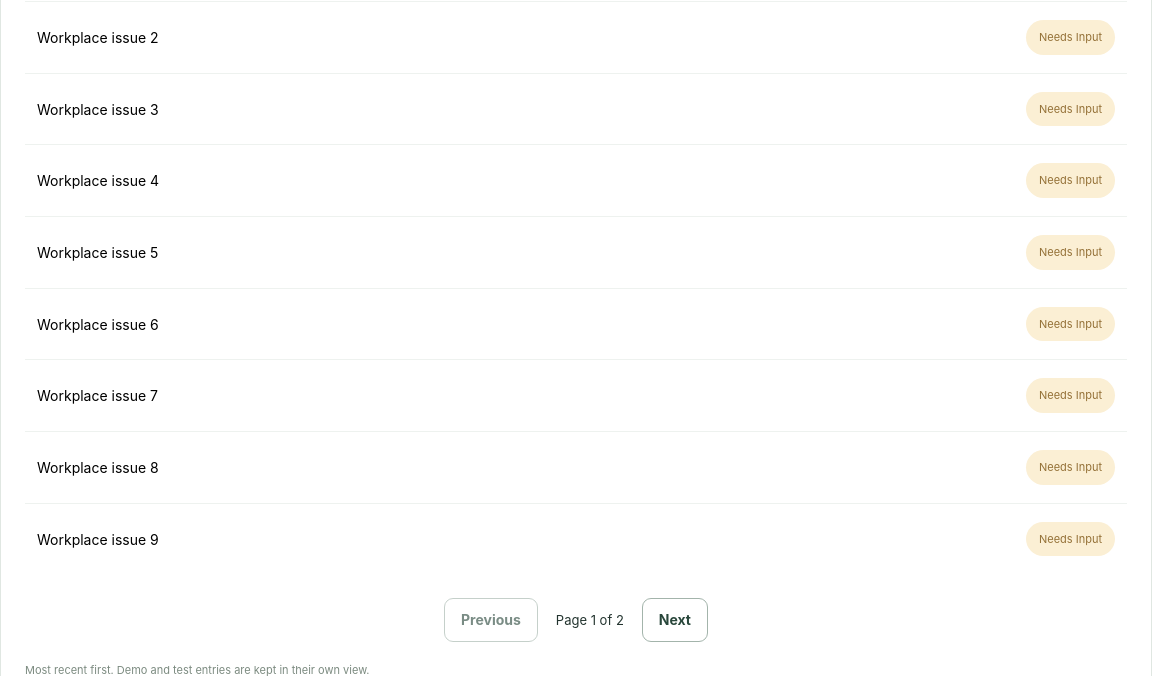
Test: known samples stay separate, unknown records remain visible, history is searchable and paginated
(page scrolled)
Expected: the button "Fictional VPN" is not shown
Expected: the text "Page 1 of 2" is shown, [556,612,624,628]
Click the button "Next". click: (675, 620)
box: [642,598,708,642]
(page scrolled)
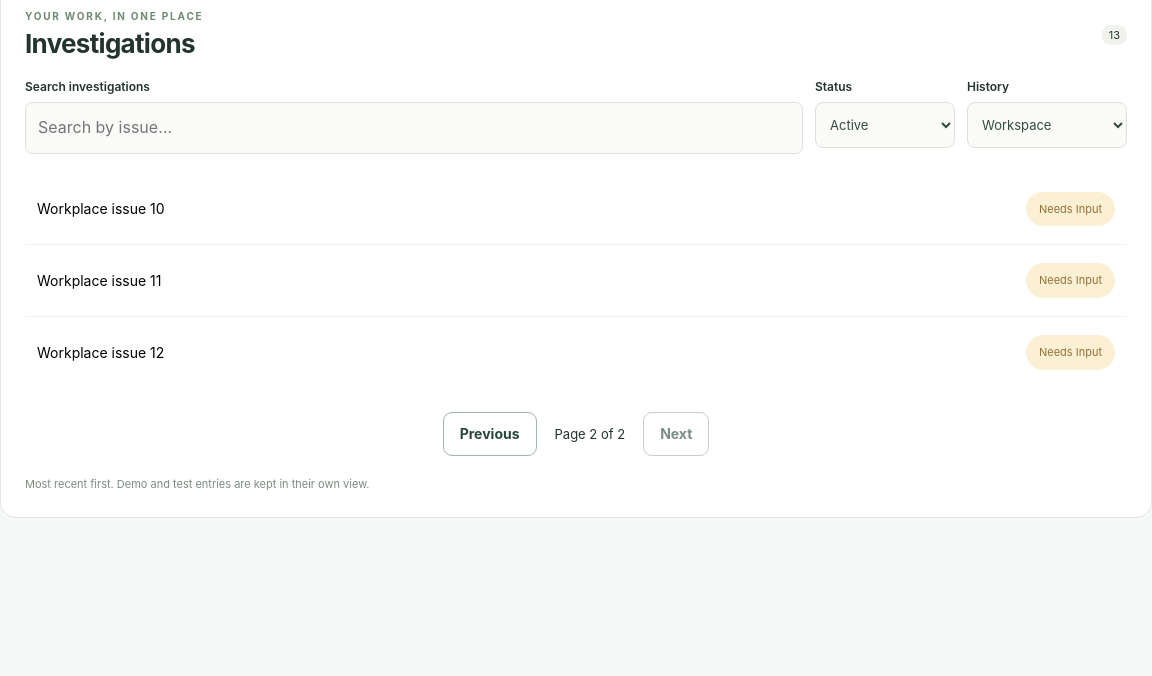
Click the button "Workplace issue 10 needs input". click: (101, 209)
box: [25,174,1127,244]
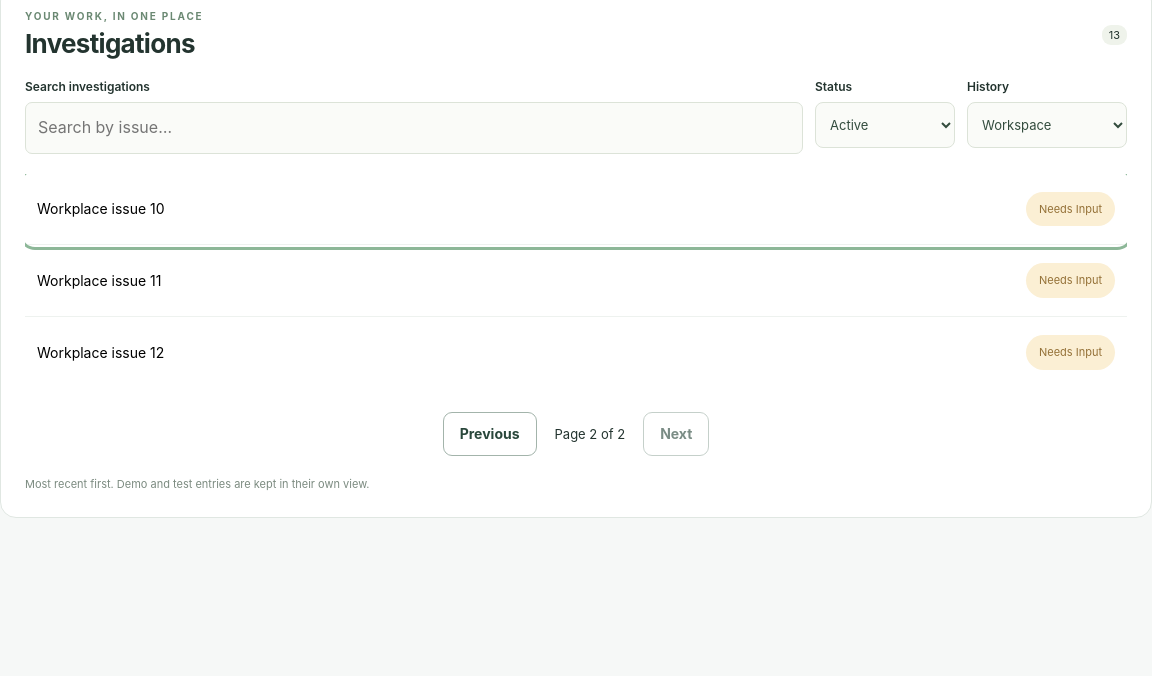
Type "12" into the field labelled "Search investigations". click: (414, 128)
box: [25,102,803,154]
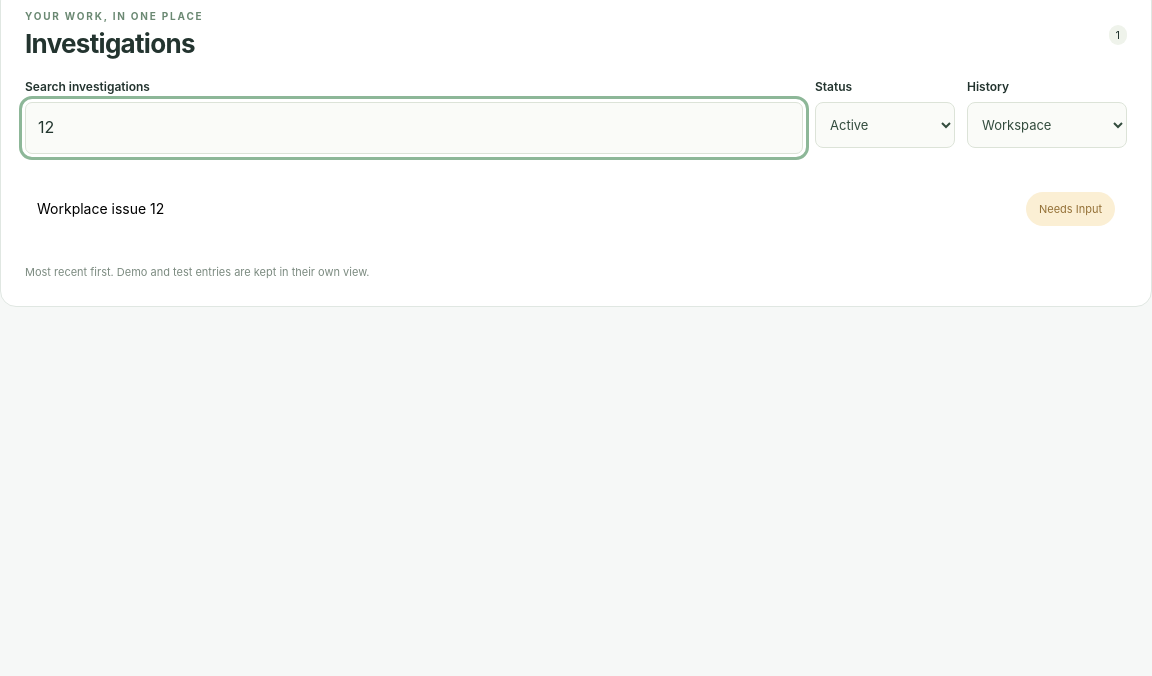
Expected: the button "Workplace issue 12 needs input" is shown, [25,174,1127,244]
Expected: the button "Next" is gone
Clear the field labelled "Search investigations". click: (414, 128)
box: [25,102,803,154]
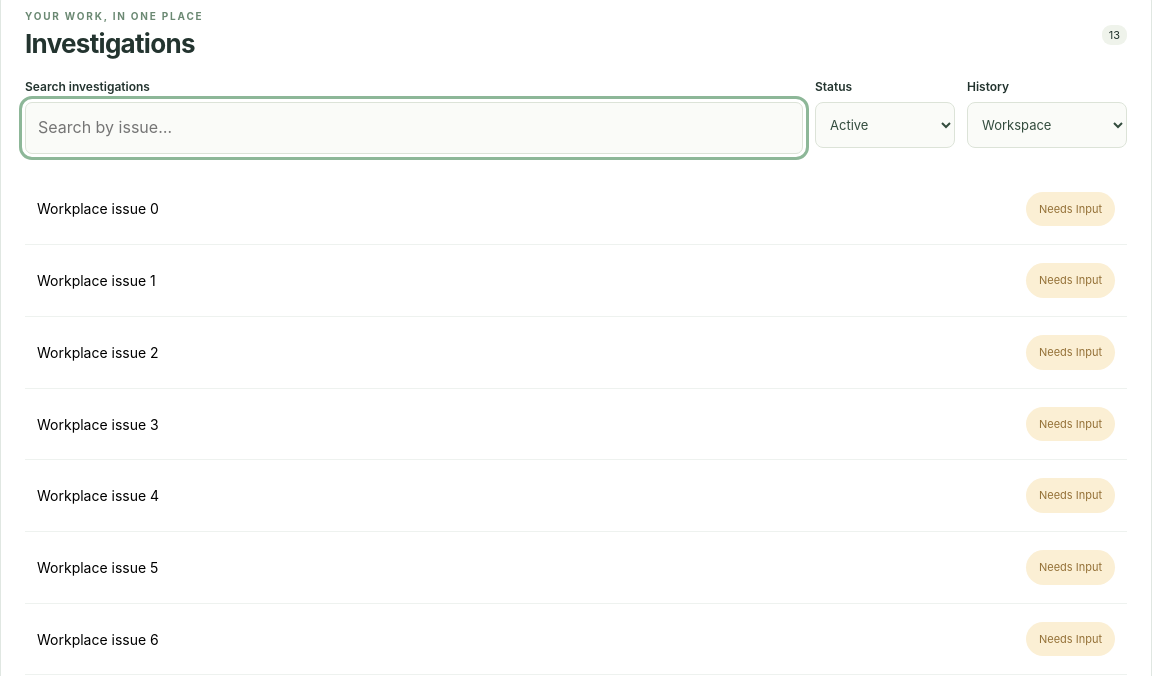
Select "Demo and tests" in the dropdown labelled "History". click: (1047, 125)
box: [967,102,1127,148]
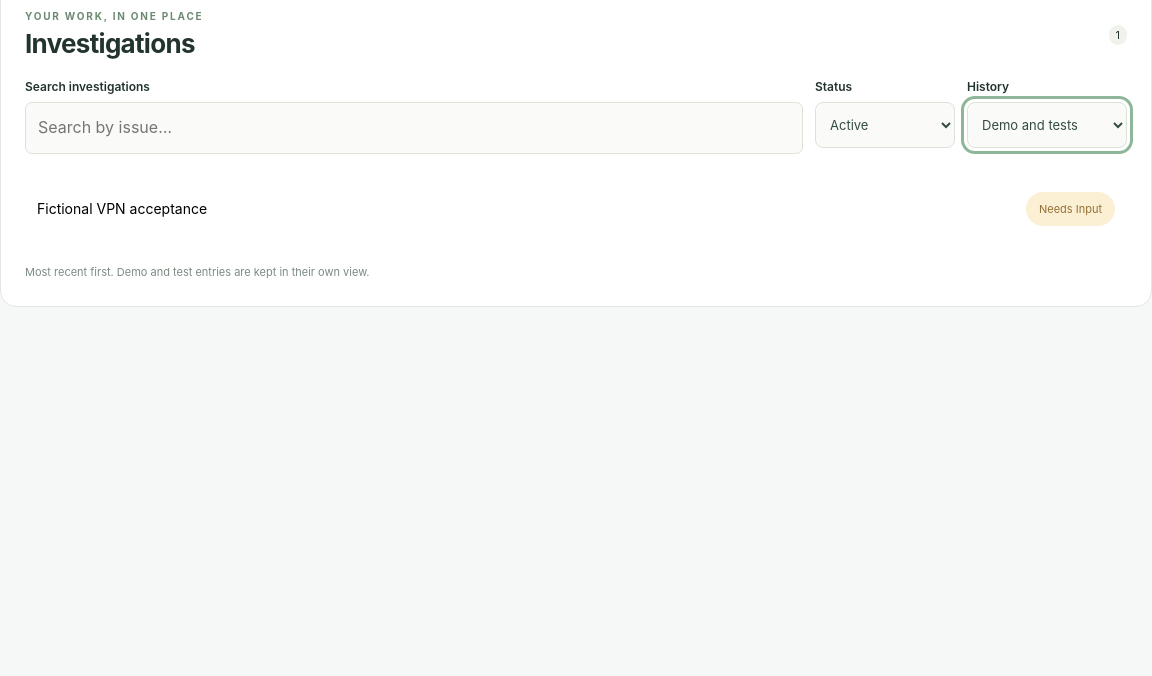
Expected: the button "Fictional VPN acceptance needs input" is shown, [25,174,1127,244]
Expected: the button "Workplace issue" is gone
